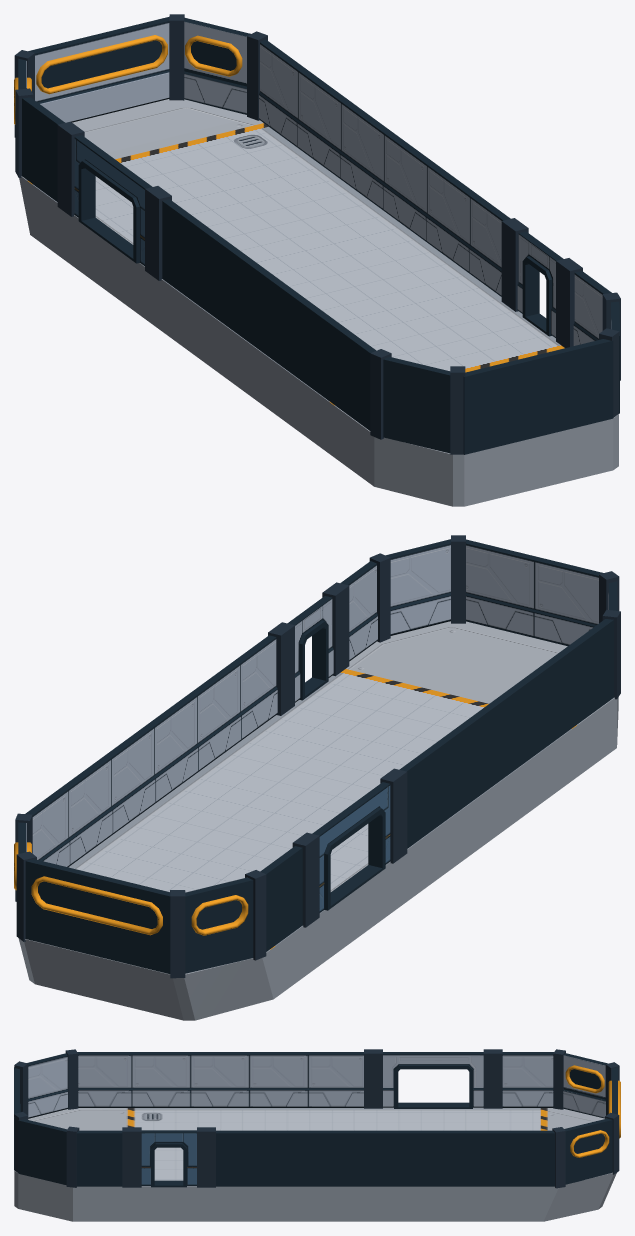
File: MainDeck.dae
The picture shows the model from 3 angles, top to bottom: view 1: azimuth 30°, elevation 25°; view 2: azimuth 150°, elevation 25°; view 3: azimuth 270°, elevation 25°; orthographic projection. The views are drawn at different scales.
Visible parts, largest first — view 1: Cube.198, Cube.017, Cube.117, Cube.018, Cube.015, Cube.031, Cube.122, Cube.001, Cube.007, Cube.120, Cube.019, Cube.082 (+9 smaller); view 2: Cube.198, Cube.017, Cube.117, Cube.015, Cube.018, Cube.121, Cube.060, Cube.001, Cube.120, Cube.007, Cube.019, Cube.110 (+9 smaller); view 3: Cube.198, Cube.017, Cube.117, Cube.001, Cube.120, Cube.060, Cube.122, Cube.019, Cube.121, Cube.007, Cube.031, Cube.109 (+13 smaller).
Part boxes in pixels (left/top/right/bottom): Cube.198: left=19, top=99, right=618, bottom=506; Cube.017: left=259, top=39, right=510, bottom=296; Cube.117: left=162, top=199, right=376, bottom=430; Cube.018: left=463, top=339, right=613, bottom=454; Cube.015: left=28, top=17, right=169, bottom=122; Cube.031: left=383, top=357, right=450, bottom=453; Cube.122: left=184, top=18, right=250, bottom=114; Cube.001: left=74, top=135, right=152, bottom=265; Cube.007: left=517, top=231, right=563, bottom=337; Cube.120: left=22, top=97, right=64, bottom=201; Cube.019: left=573, top=271, right=611, bottom=345; Cube.082: left=57, top=121, right=84, bottom=216; Cube.198: left=18, top=621, right=618, bottom=1020; Cube.017: left=25, top=635, right=277, bottom=867; Cube.117: left=399, top=619, right=613, bottom=848; Cube.015: left=25, top=859, right=170, bottom=973; Cube.018: left=466, top=539, right=603, bottom=646; Cube.121: left=185, top=877, right=253, bottom=973; Cube.060: left=385, top=539, right=450, bottom=635; Cube.001: left=312, top=782, right=390, bottom=912; Cube.120: left=260, top=846, right=302, bottom=951; Cube.007: left=287, top=596, right=333, bottom=702; Cube.019: left=340, top=561, right=377, bottom=661; Cube.110: left=268, top=622, right=294, bottom=715; Cube.198: left=14, top=1107, right=616, bottom=1221; Cube.017: left=216, top=1130, right=554, bottom=1186; Cube.117: left=77, top=1052, right=363, bottom=1107; Cube.001: left=383, top=1052, right=483, bottom=1108; Cube.120: left=502, top=1052, right=553, bottom=1107; Cube.060: left=18, top=1119, right=66, bottom=1185; Cube.122: left=564, top=1118, right=612, bottom=1184; Cube.019: left=76, top=1130, right=122, bottom=1186; Cube.121: left=563, top=1053, right=607, bottom=1118; Cube.007: left=141, top=1130, right=196, bottom=1187; Cube.031: left=27, top=1053, right=67, bottom=1118; Cube.109: left=122, top=1127, right=141, bottom=1187.
Bounding box in the file's own units: 10.07 × 30.97 × 5.2.
